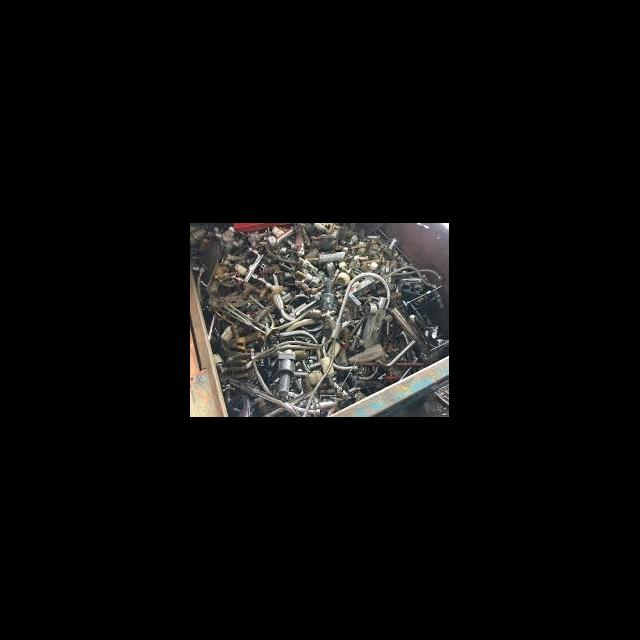metal: (326, 267, 396, 345), (382, 301, 440, 363), (228, 245, 282, 295), (270, 346, 300, 399), (300, 299, 344, 323), (314, 354, 344, 387), (312, 246, 352, 266)
